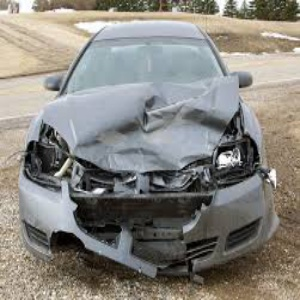front_windshield_glass: (33, 35, 246, 186)
